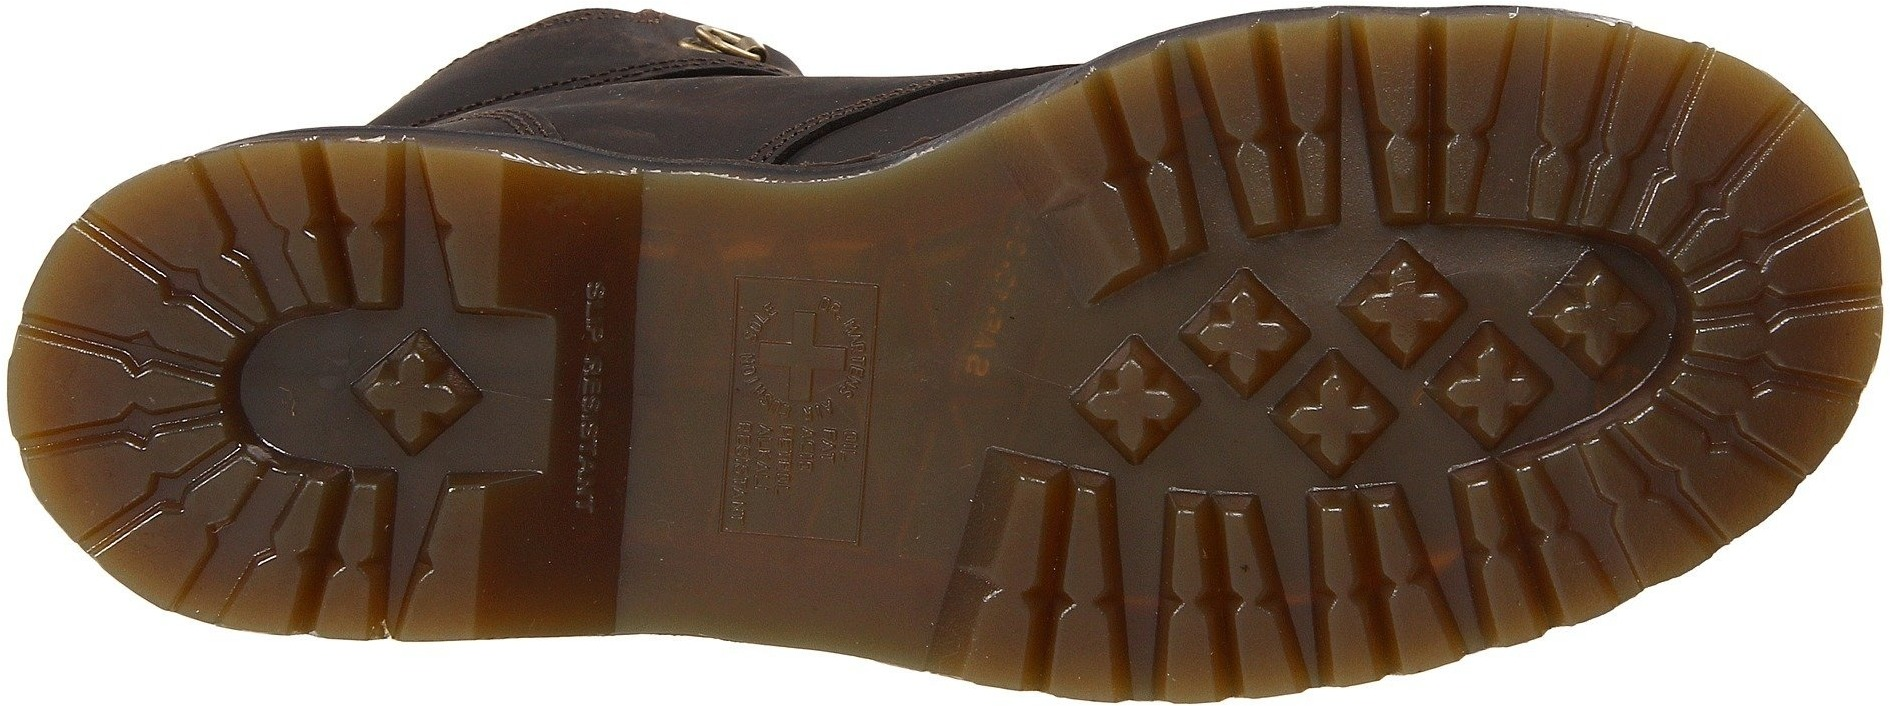bowtie: (42, 278, 274, 502), (937, 477, 1157, 678), (1175, 48, 1381, 246), (1505, 31, 1690, 224), (1278, 469, 1465, 651), (1675, 240, 1860, 423), (1317, 492, 1458, 686), (1164, 504, 1296, 696)
exclude: (475, 161, 887, 655)
other: (898, 258, 1044, 404)
star: (1068, 336, 1196, 458), (1348, 251, 1463, 360), (1543, 263, 1654, 376), (354, 337, 468, 446), (1279, 367, 1389, 473), (1438, 339, 1546, 442), (1192, 287, 1295, 393)
